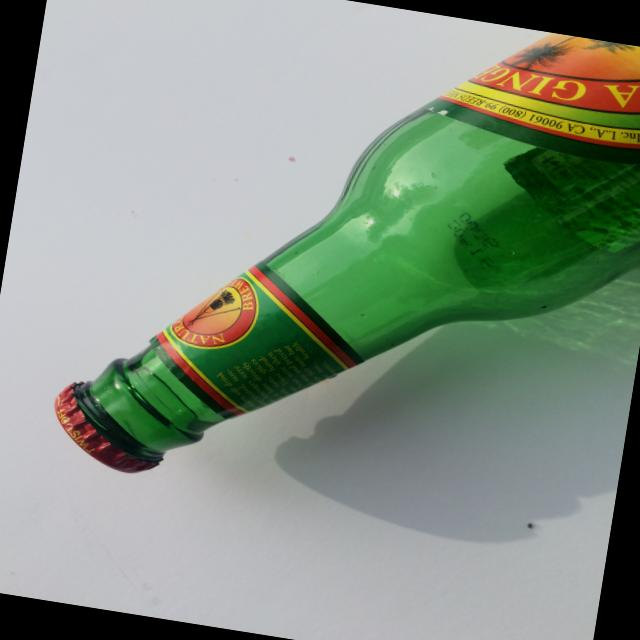Glass: (37, 0, 640, 552)
